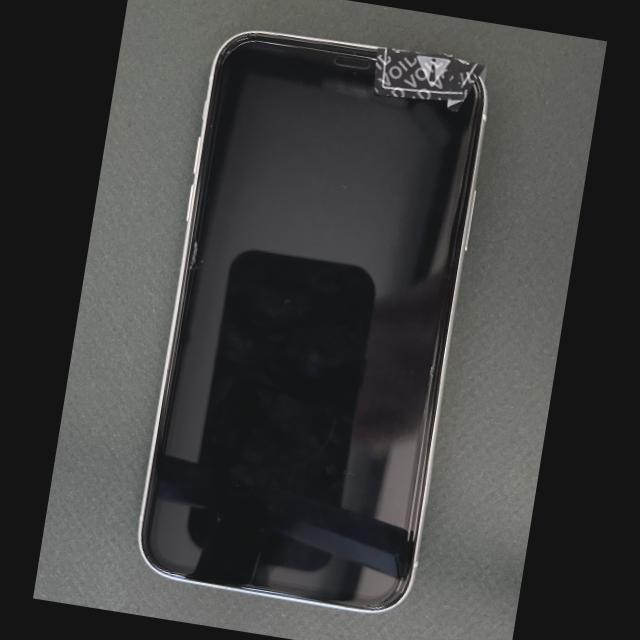phone: (137, 31, 489, 614)
sticker: (373, 47, 487, 113)
